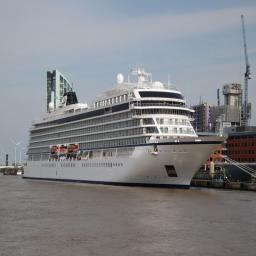cruises: (22, 66, 231, 196)
